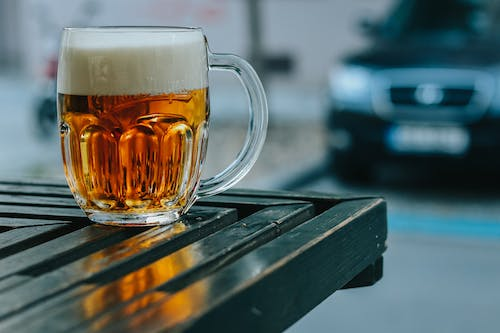alcohol: (56, 25, 269, 227)
